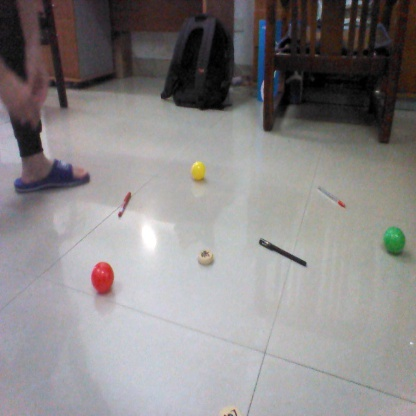ball: (91, 262, 117, 293), (382, 224, 406, 257), (189, 160, 208, 180)
chess: (194, 246, 218, 264), (219, 403, 243, 416)
pen: (256, 240, 308, 269), (320, 186, 345, 208), (119, 193, 134, 217)
